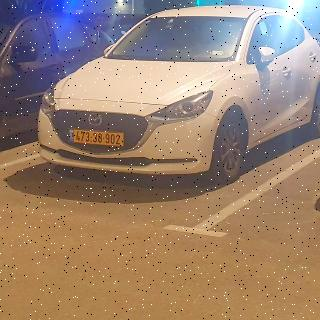LicensePlate: (74, 130, 124, 147)
